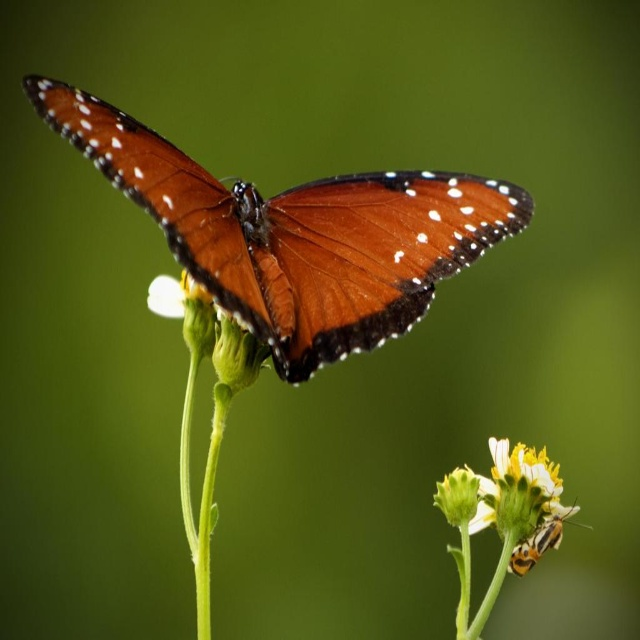Butterfly: (22, 73, 536, 387), (507, 496, 594, 578)
